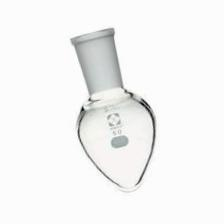Pear shaped flask: (71, 21, 159, 194)
